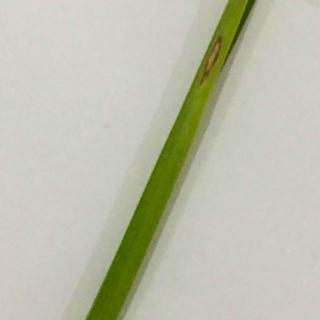Blast: (203, 24, 222, 110)
